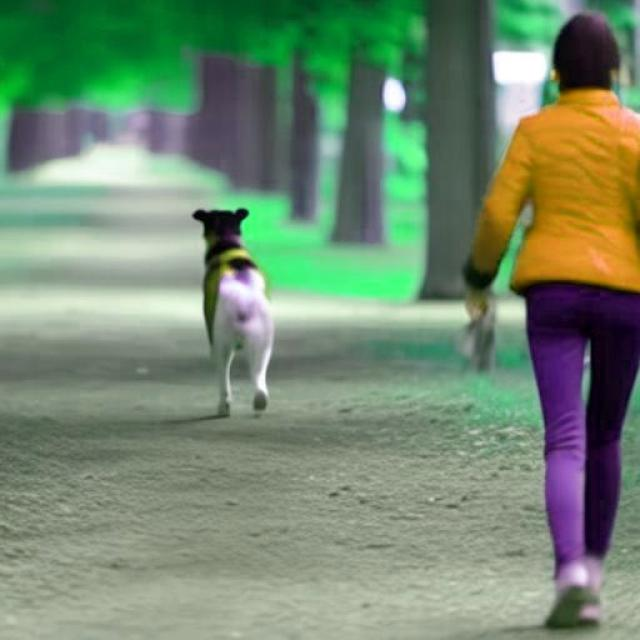Unleashed_Dog: (191, 207, 640, 419)
